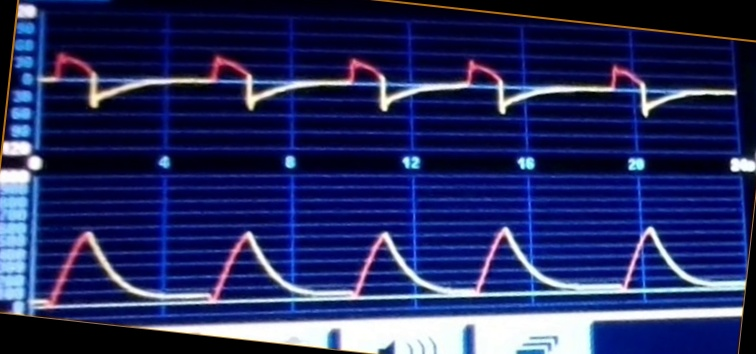Normal Flow: (44, 38, 734, 140)
Normal Volume: (36, 209, 742, 306)
